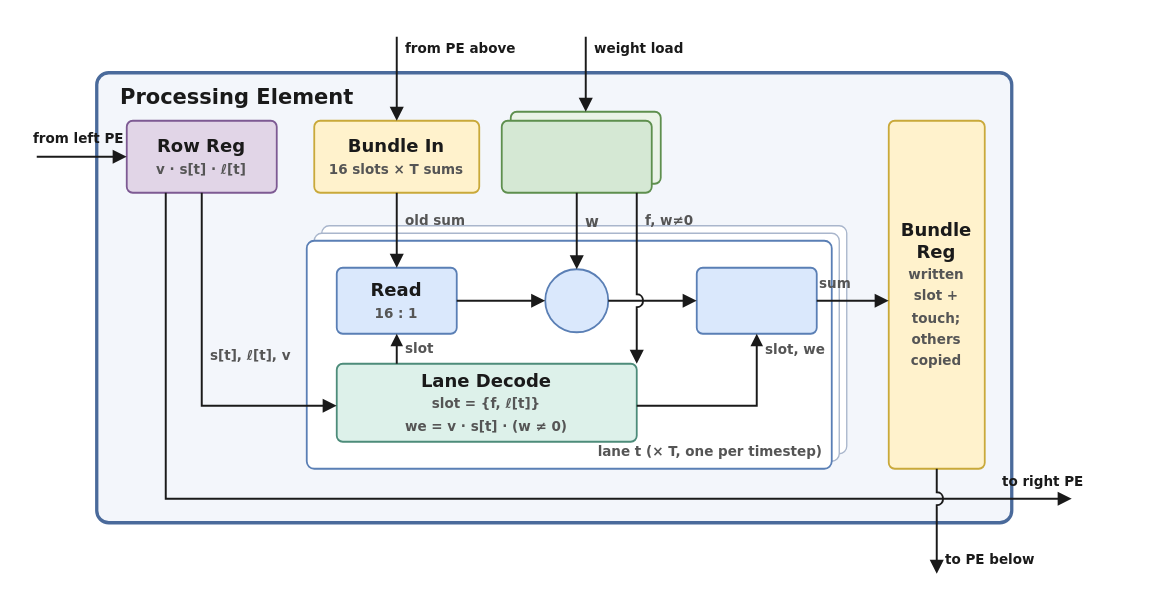
The diagram is 1164 pixels wide and 614 high, and some of its shapes have lost their labels. The box of each missing label's shape, as (x1, y1, x2, y2) in pixels:
+ w: (544, 268, 608, 332)
Weight Reg w · f (+ shadow): (500, 119, 652, 193)
Write 1 : 16: (695, 266, 817, 334)
